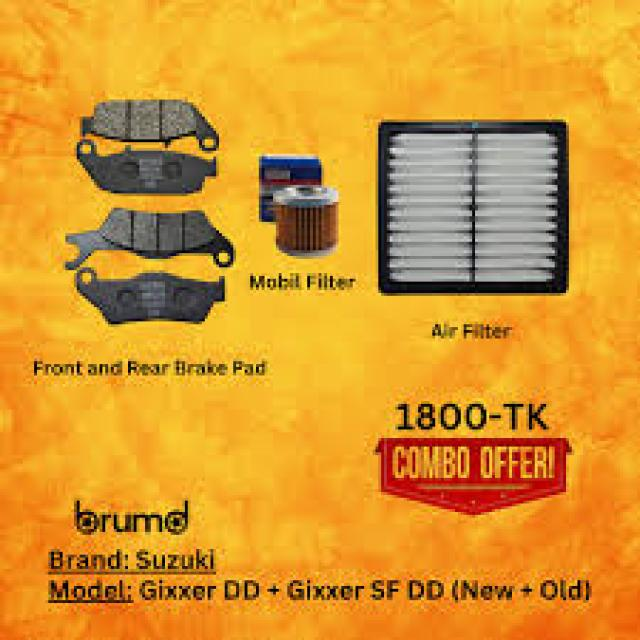air_filter: (377, 120, 575, 305)
brake_pad: (60, 205, 237, 267), (66, 267, 228, 328), (72, 92, 228, 149), (66, 141, 228, 195)
oil_filter: (275, 181, 345, 257)
